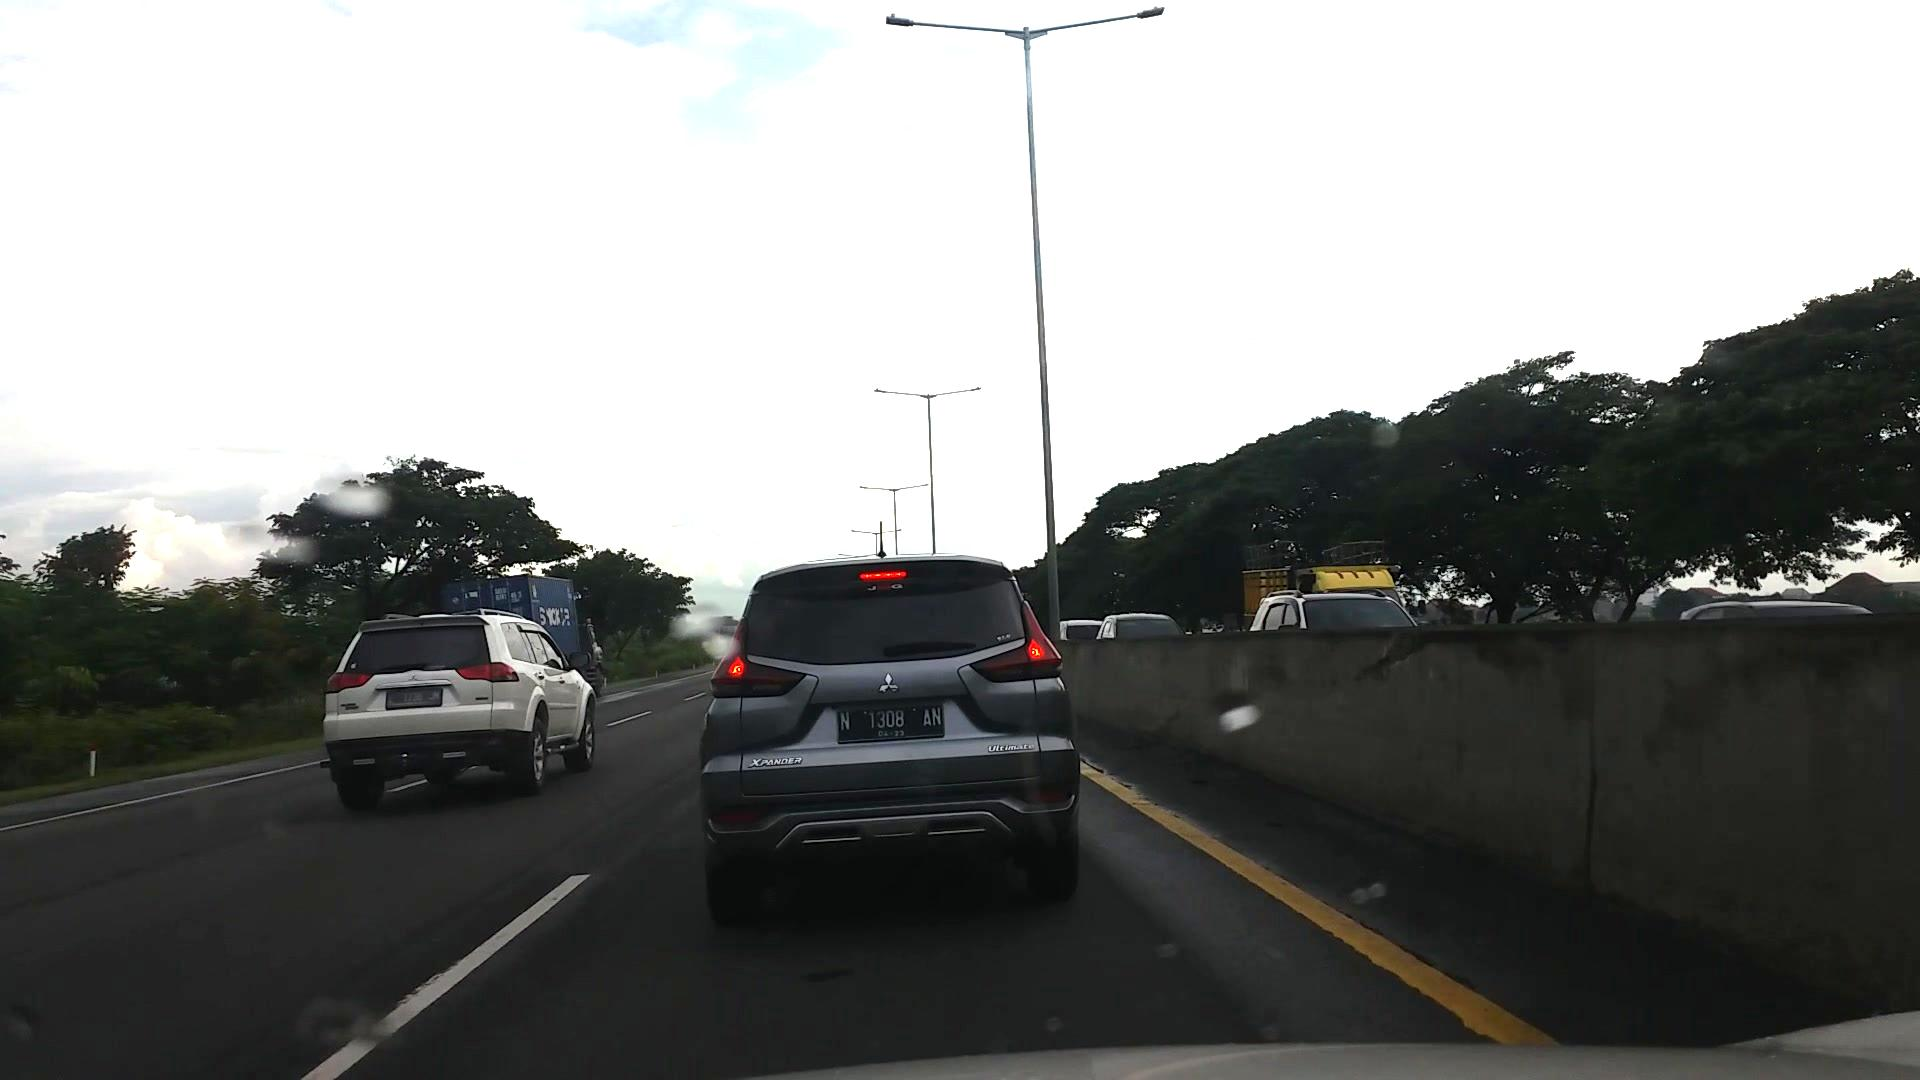plate_positive: (837, 705, 943, 742)
